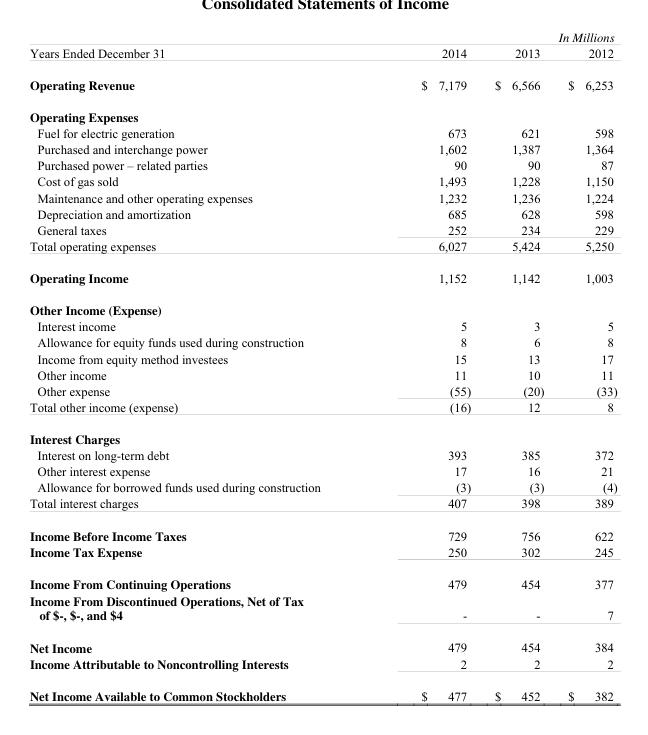table: (28, 28, 616, 704)
table column: (28, 28, 370, 704), (370, 28, 482, 704), (482, 28, 550, 704), (550, 28, 616, 704)
table column header: (28, 28, 616, 67)
table projected row header: (28, 421, 616, 447), (28, 100, 616, 125), (28, 293, 616, 318)
table row: (28, 28, 616, 67), (28, 592, 616, 630), (28, 67, 616, 100), (28, 260, 616, 293), (28, 421, 616, 447), (28, 100, 616, 125), (28, 293, 616, 318), (28, 518, 616, 543), (28, 567, 616, 592), (28, 630, 616, 655), (28, 679, 616, 704), (28, 543, 616, 567), (28, 655, 616, 679), (28, 237, 616, 260), (28, 398, 616, 421), (28, 495, 616, 518), (28, 140, 616, 157), (28, 462, 616, 479), (28, 157, 616, 173), (28, 173, 616, 189), (28, 189, 616, 205), (28, 205, 616, 221), (28, 221, 616, 237), (28, 318, 616, 334), (28, 334, 616, 350), (28, 350, 616, 366), (28, 366, 616, 382), (28, 382, 616, 398), (28, 479, 616, 495), (28, 125, 616, 140), (28, 447, 616, 462)
